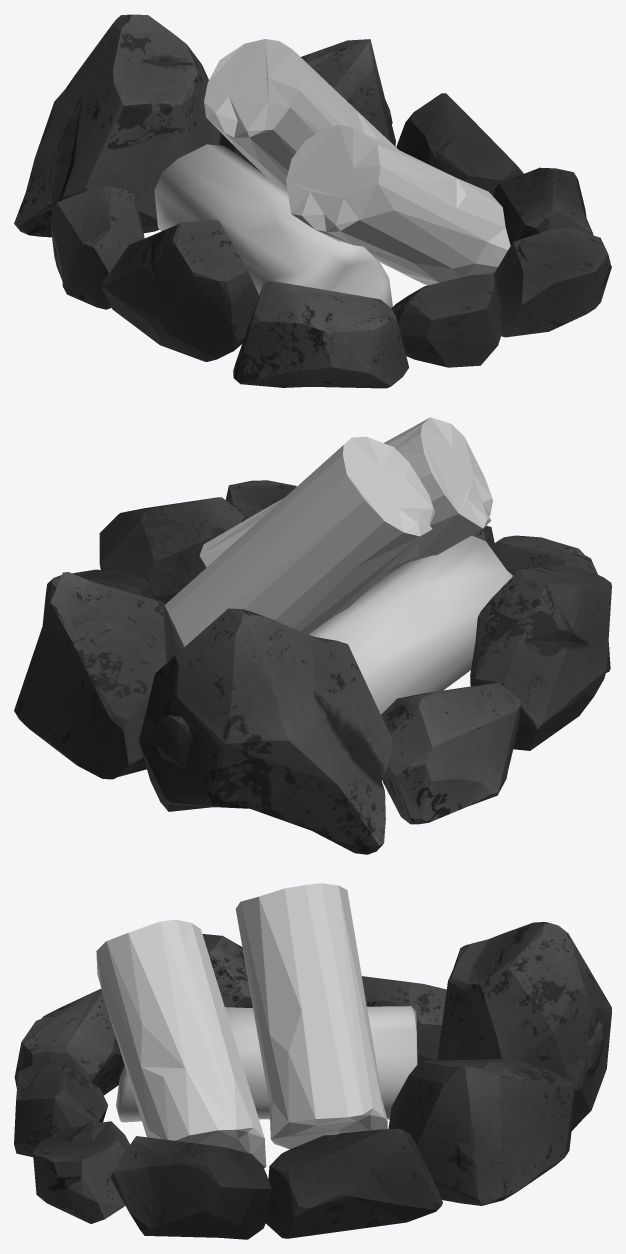
Rendered from campfire.obj.
The picture shows the model from 3 angles, top to bottom: view 1: azimuth 30°, elevation 25°; view 2: azimuth 150°, elevation 25°; view 3: azimuth 270°, elevation 25°; orthographic projection. The views are drawn at different scales.
Visible parts, largest first — view 1: campfire_model:subtool14_campfire_model6_stone2_0, campfire_model:subtool14_campfire_model6_wood_0, campfire_model:subtool14_campfire_model6_stone_0; view 2: campfire_model:subtool14_campfire_model6_stone_0, campfire_model:subtool14_campfire_model6_wood_0, campfire_model:subtool14_campfire_model6_stone2_0; view 3: campfire_model:subtool14_campfire_model6_stone_0, campfire_model:subtool14_campfire_model6_wood_0, campfire_model:subtool14_campfire_model6_stone2_0.
Part boxes in pixels (<box>): campfire_model:subtool14_campfire_model6_stone2_0: <box>51,187,611,388</box>; campfire_model:subtool14_campfire_model6_wood_0: <box>154,39,510,307</box>; campfire_model:subtool14_campfire_model6_stone_0: <box>14,14,593,245</box>; campfire_model:subtool14_campfire_model6_stone_0: <box>14,497,392,854</box>; campfire_model:subtool14_campfire_model6_wood_0: <box>164,417,512,714</box>; campfire_model:subtool14_campfire_model6_stone2_0: <box>225,480,611,824</box>; campfire_model:subtool14_campfire_model6_stone_0: <box>110,922,611,1239</box>; campfire_model:subtool14_campfire_model6_wood_0: <box>96,883,417,1168</box>; campfire_model:subtool14_campfire_model6_stone2_0: <box>14,934,446,1223</box>.
Bounding box in the file's own units: 8.91 × 4.86 × 10.46.
